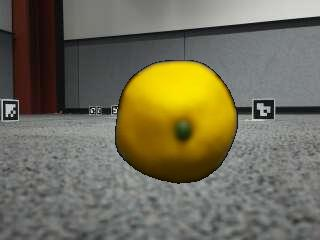lemon: (119, 61, 238, 183)
